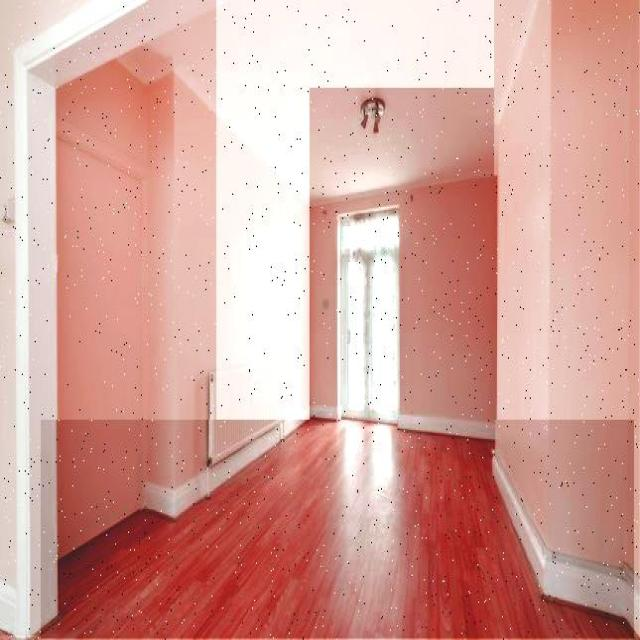Wall: (0, 0, 216, 636), (41, 420, 634, 639), (495, 0, 639, 630), (155, 0, 531, 199), (142, 74, 310, 515), (310, 177, 497, 438), (57, 62, 147, 552), (285, 89, 498, 201), (0, 0, 89, 207), (0, 223, 15, 586), (119, 45, 172, 83)
